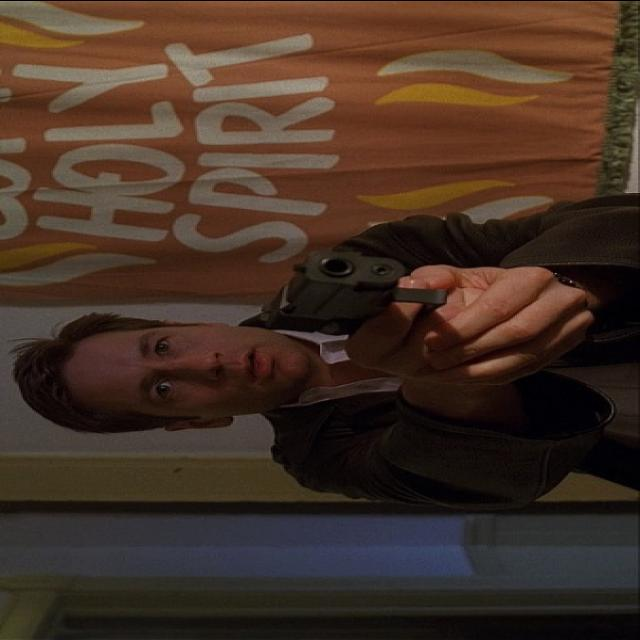weapons: (242, 240, 554, 345)
